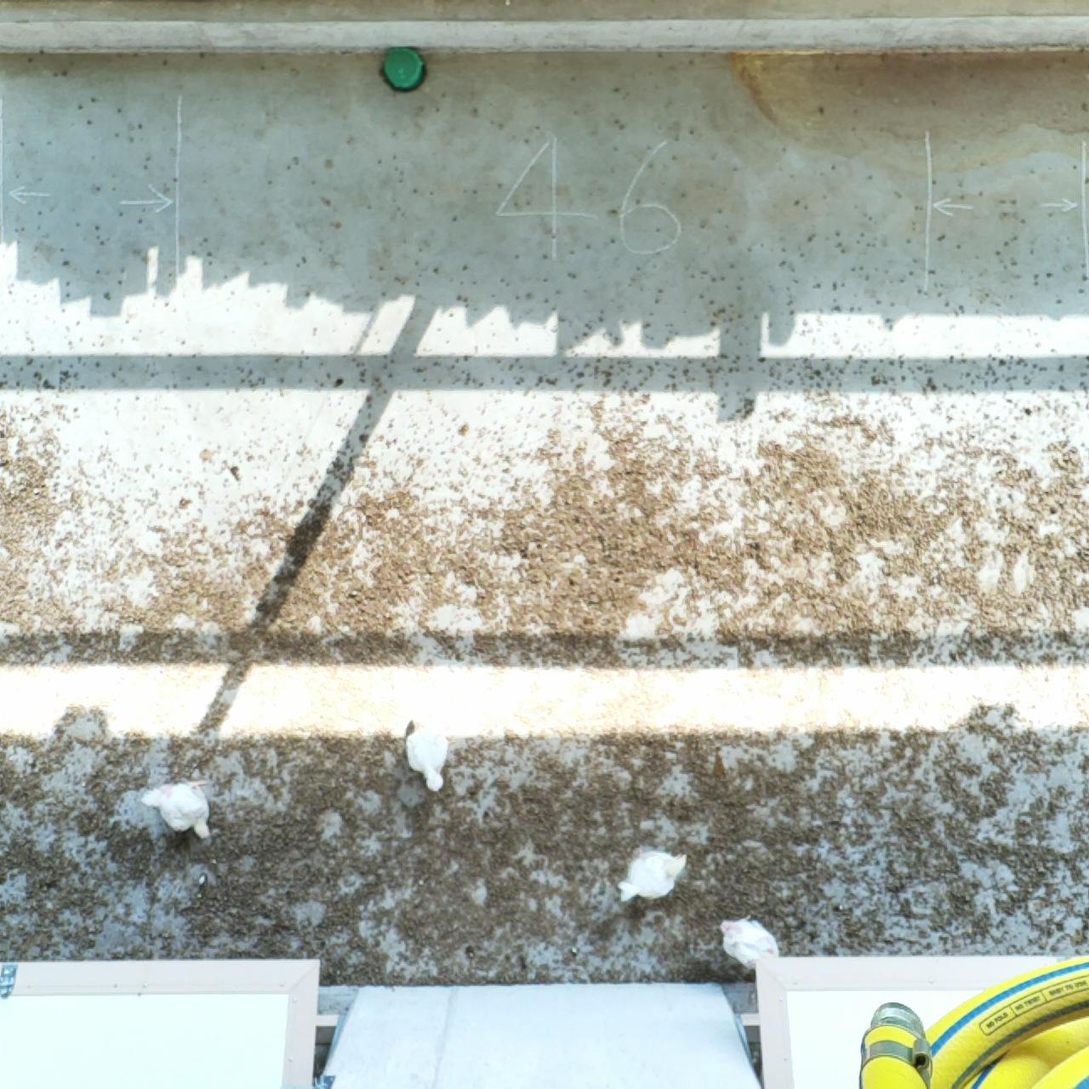chicken: (139, 775, 221, 847), (614, 840, 695, 906), (400, 706, 458, 795), (716, 906, 784, 975)
